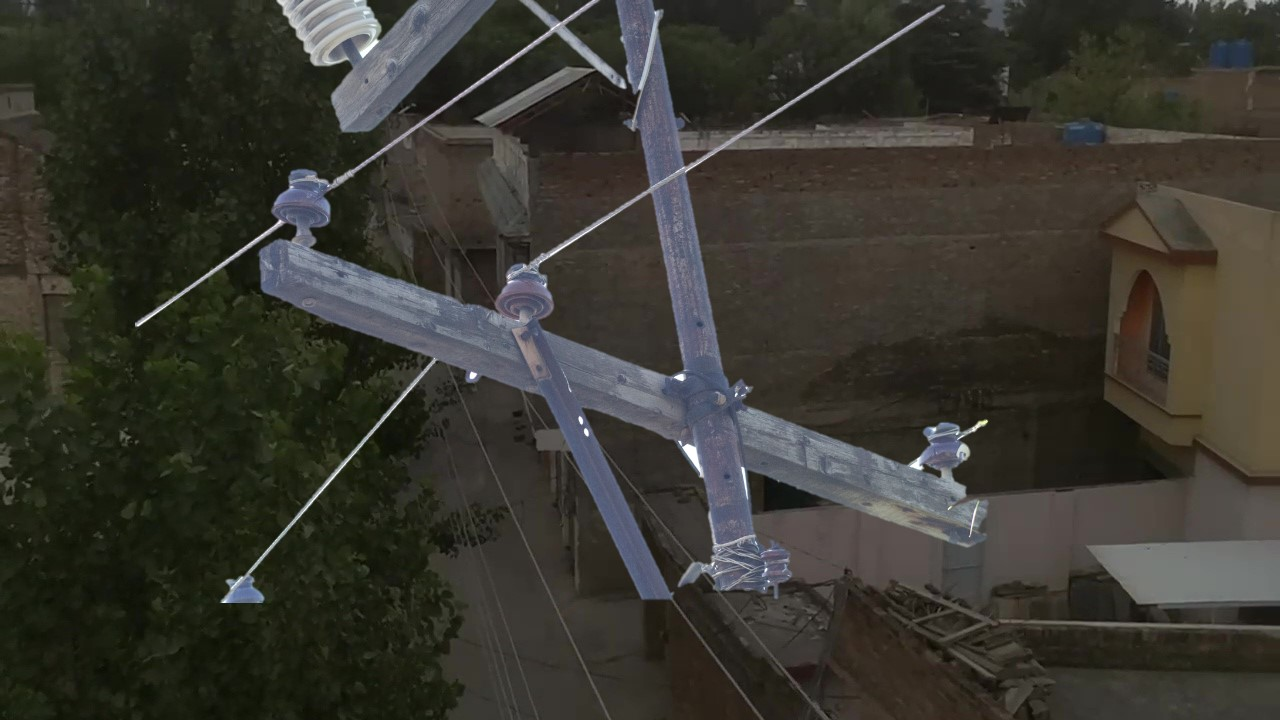defect_pin: (915, 407, 980, 482)
insulator_pin: (269, 160, 339, 242), (490, 257, 560, 324)
